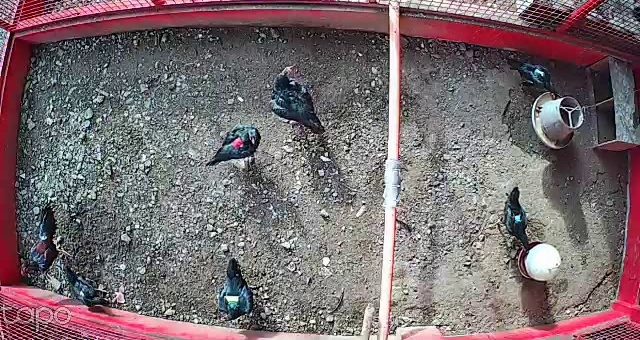Chicken: (265, 58, 328, 132), (488, 185, 538, 257), (212, 255, 258, 330), (204, 120, 264, 170), (505, 53, 559, 103), (61, 265, 116, 308)
Rooster: (18, 203, 73, 278)
Saddle_Color_Blue: (514, 214, 520, 223)
Saddle_Color_Red: (232, 138, 247, 150)
Saddle_Color_YellowGreen: (225, 294, 239, 308)
